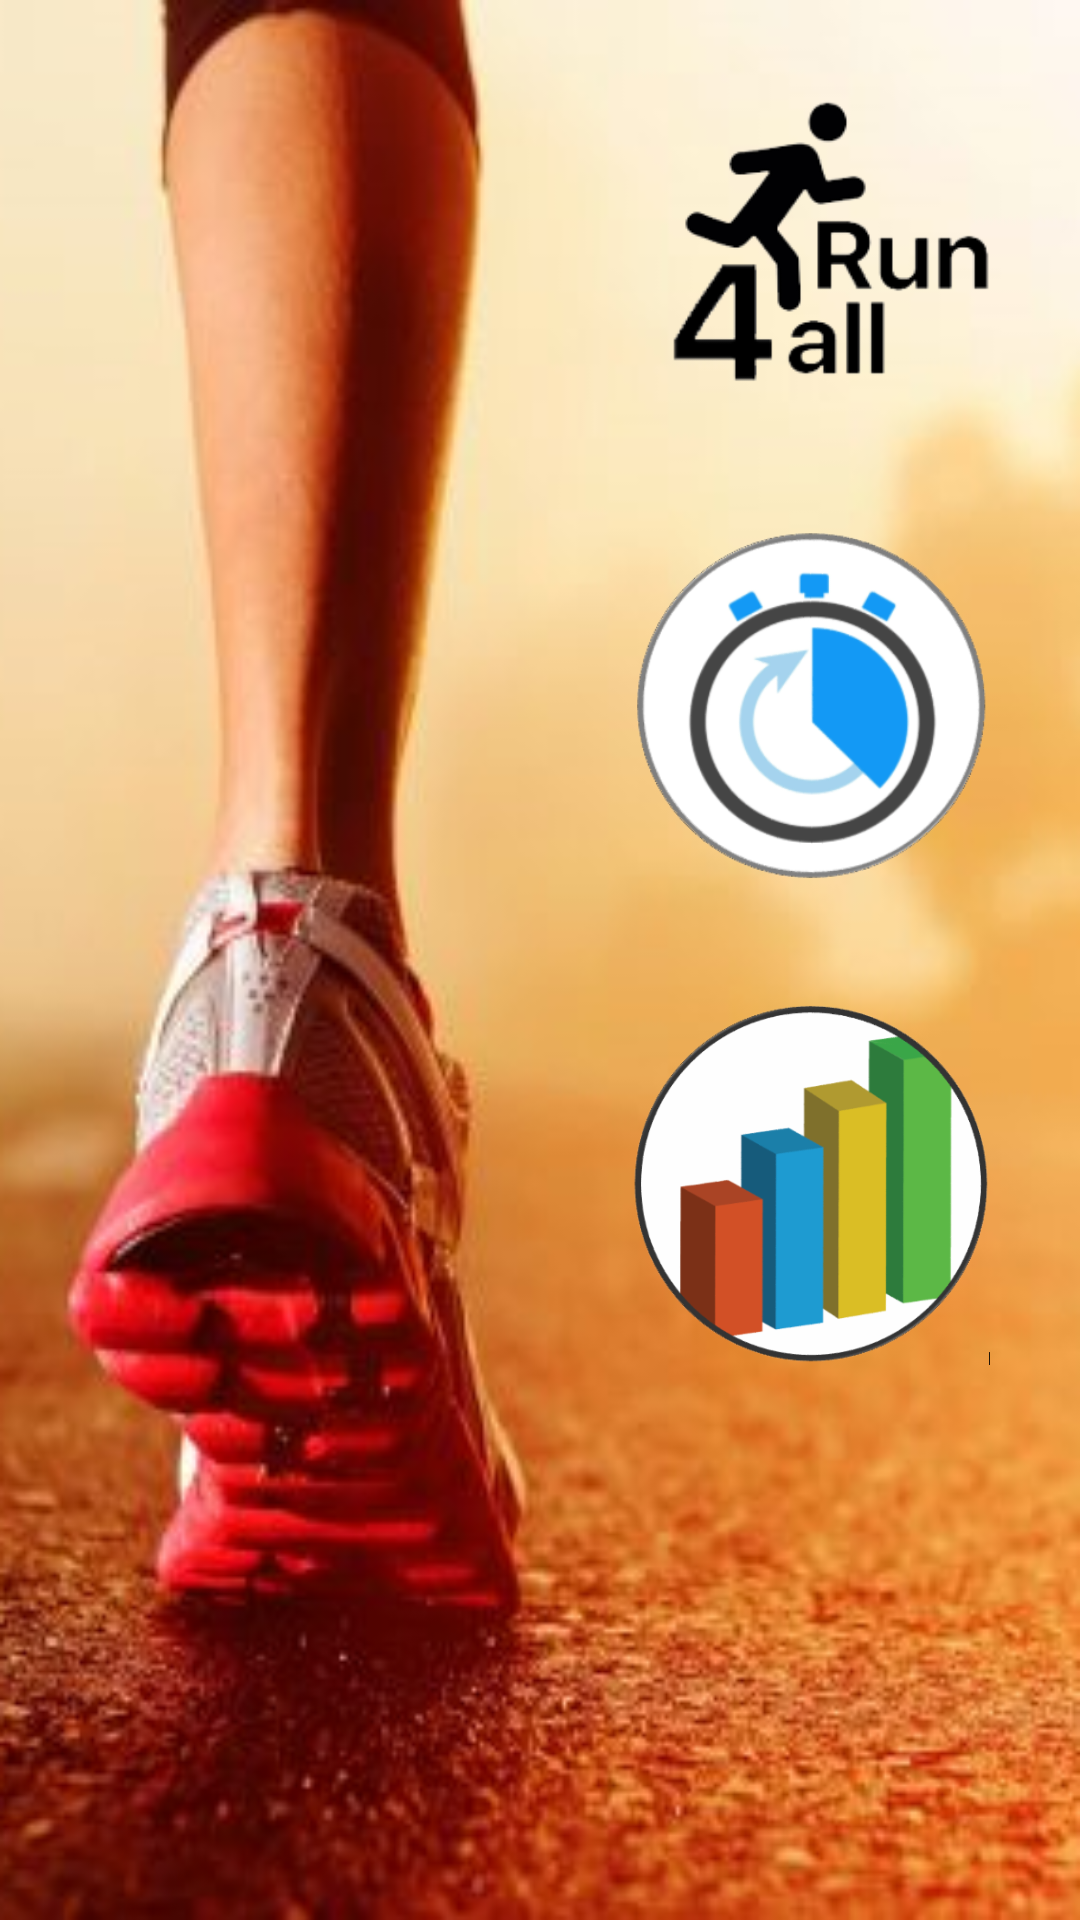

Point at icon controls on the screen. Image size 1080x1920, points as (x,y).
perf: (810,1185)
